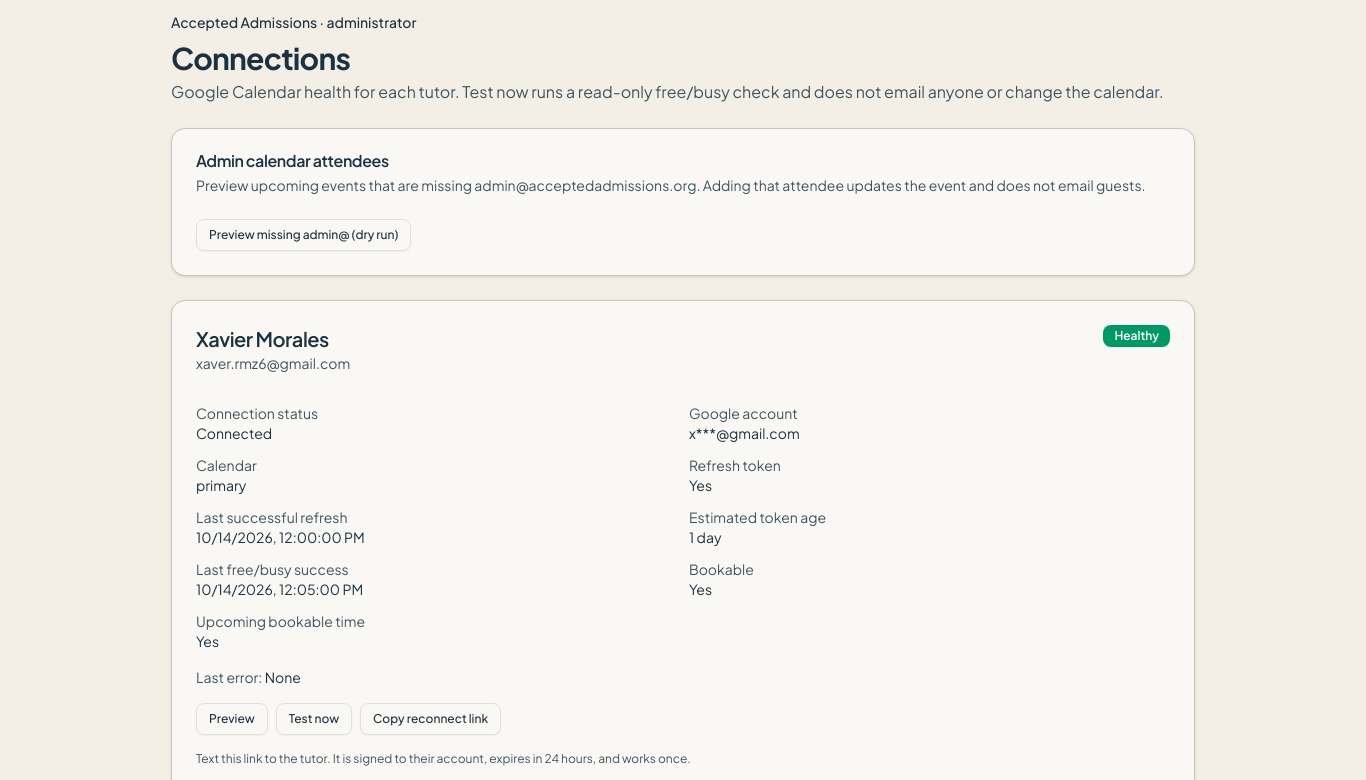
Test: Admin connections › shows the server wait message when Test now is cooling down
Click the button with test id "test-calendar-connection-xavier-profile" at (314, 719), box [276,703,352,735]
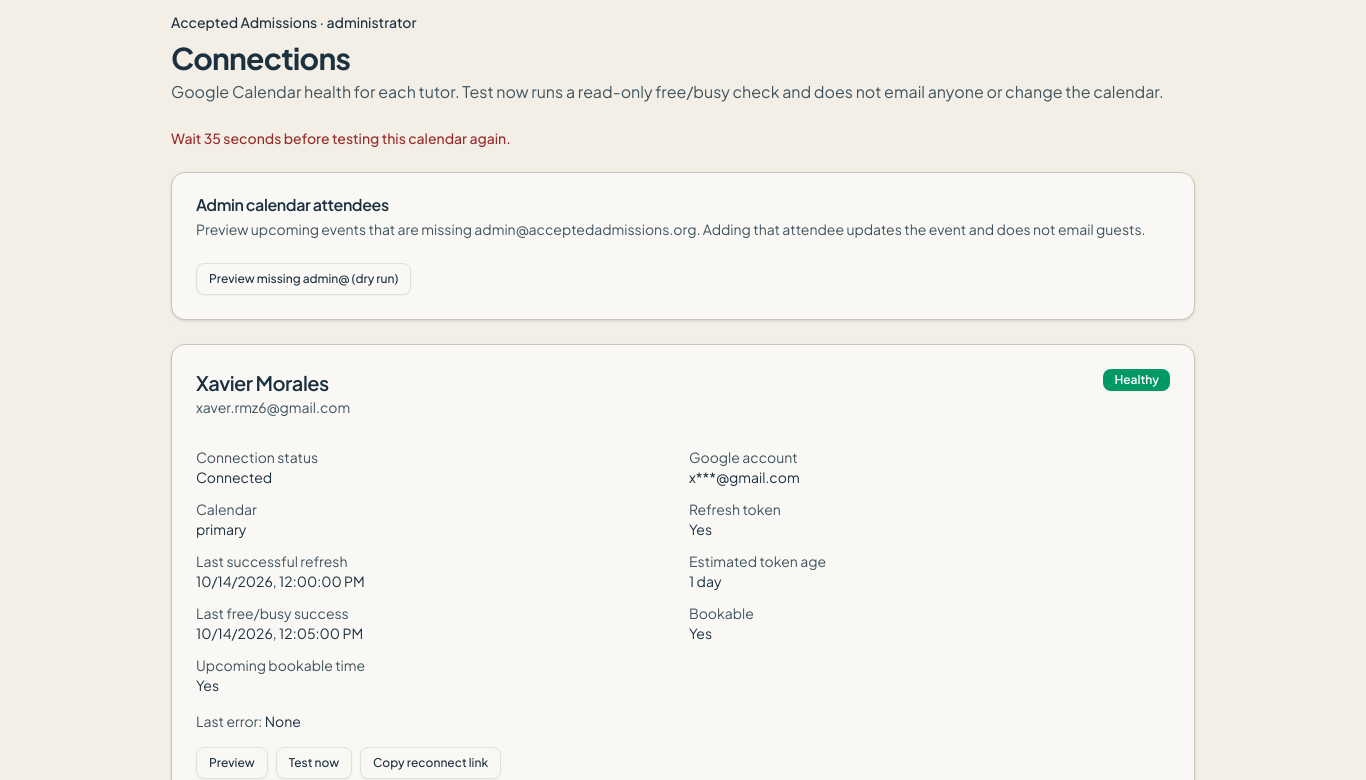
expect the text "Wait 35 seconds before testing this calendar again." is shown: met, box [171,129,511,147]
